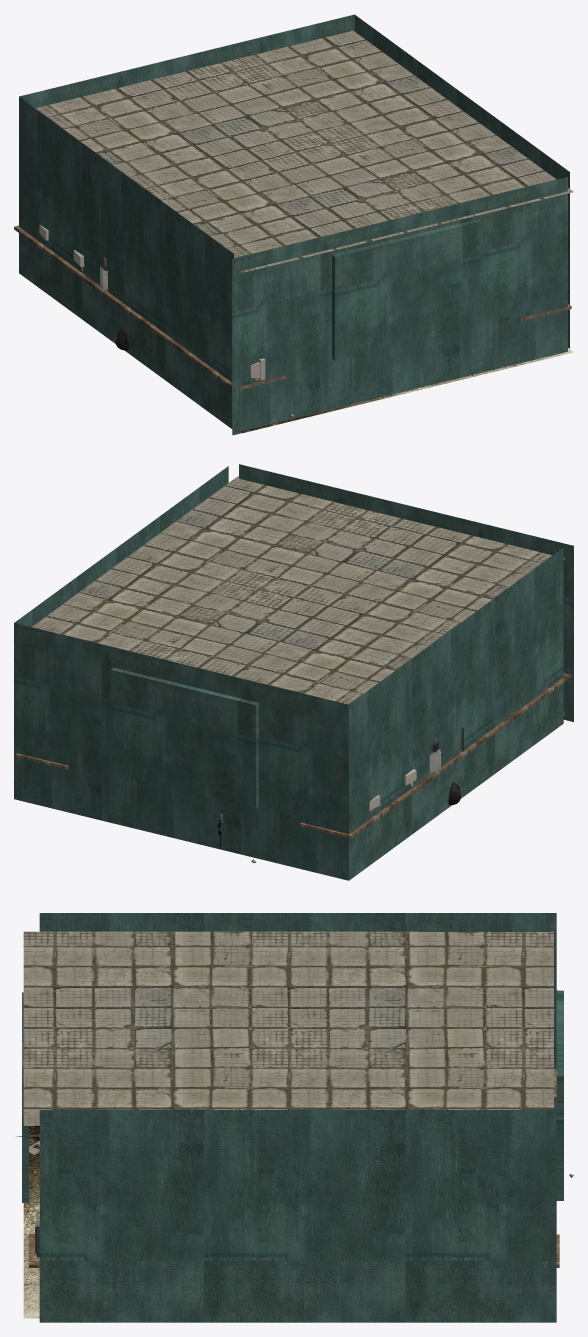
Rendered from office.glb.
3 renders of one model, top to bottom at view 1: azimuth 30°, elevation 25°; view 2: azimuth 150°, elevation 25°; view 3: azimuth 270°, elevation 25°, orthographic. The views are drawn at different scales.
Parts seen in each view (by area): view 1: Plane.002, Plane.004, Cube, Plane; view 2: Plane.002, Plane.004, Cube; view 3: Plane.002, Plane.004, Plane.
Boxes of the visible parts, x1,y1,x2,y2 form: Plane.002: (19,14,569,435); Plane.004: (35,30,573,272); Cube: (14,225,286,390); Plane: (241,348,573,432); Plane.002: (14,464,573,880); Plane.004: (32,476,565,704); Cube: (300,673,571,838); Plane.002: (22,913,563,1322); Plane.004: (23,931,553,1125); Plane: (23,1126,39,1318).
Size of the model in its own units: 7.24 by 3.63 by 8.52.
20 materials, 18 textured.
